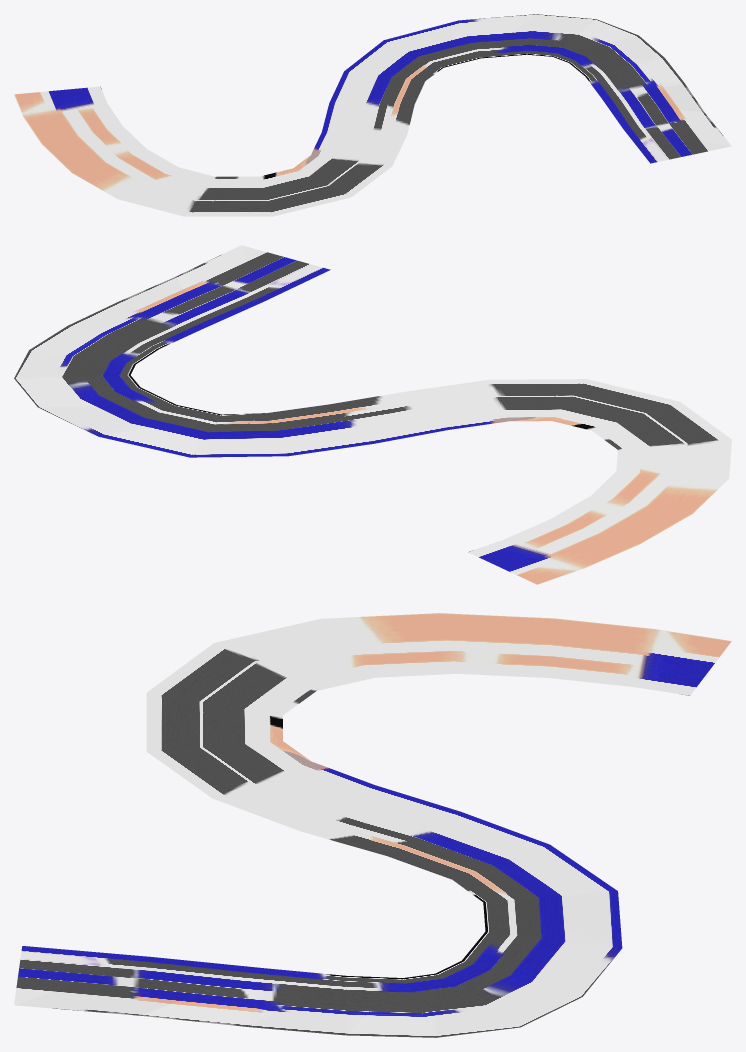
The model's file is track version 2-1.FBX.
3 views of the same model, one above another, from view 1: azimuth 30°, elevation 25°; view 2: azimuth 150°, elevation 25°; view 3: azimuth 270°, elevation 25° (orthographic). The views are drawn at different scales.
Visible parts, largest first — view 1: Object002; view 2: Object002; view 3: Object002.
Part boxes in pixels (x1,y1,x2,y2): Object002: (14,14,731,216); Object002: (14,245,731,584); Object002: (14,613,731,1037).
Size of the model in its own units: 854 by 2.25 by 609.
